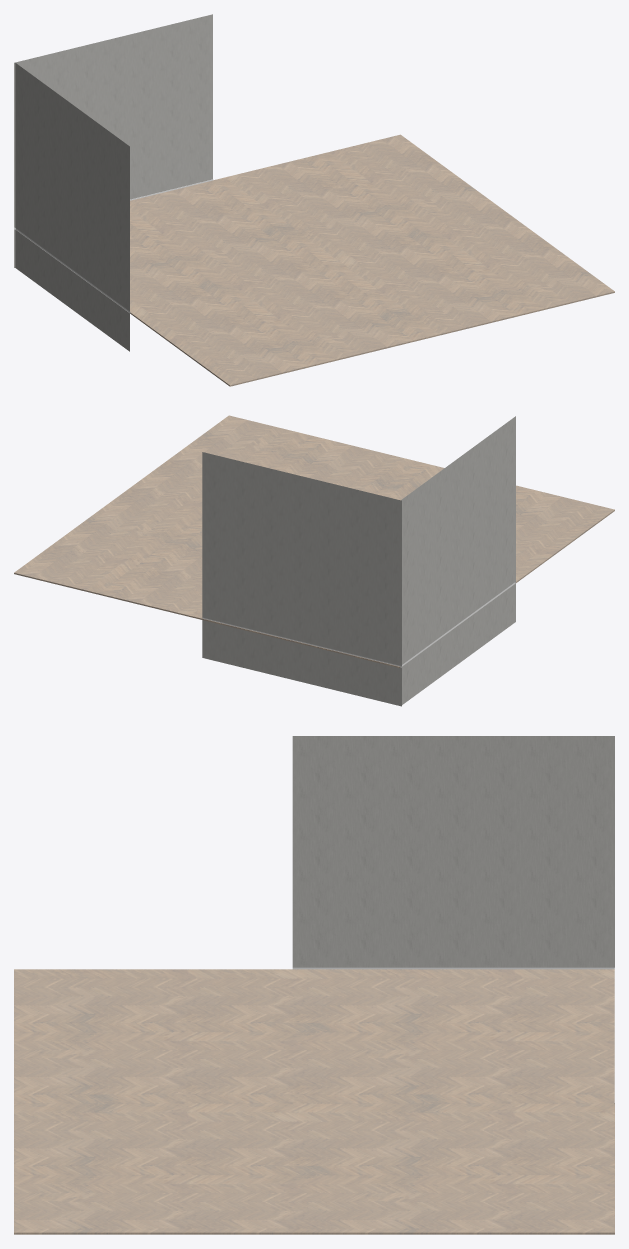
Rendered from spaceTwo.glb.
3 views of the same model, one above another, from view 1: azimuth 30°, elevation 25°; view 2: azimuth 150°, elevation 25°; view 3: azimuth 270°, elevation 25° (orthographic). The views are drawn at different scales.
Visible parts, largest first — view 1: Plane.040, Plane.059, Plane.058; view 2: Plane.058, Plane.040, Plane.059; view 3: Plane.040, Plane.059.
Boxes of the visible parts, box(x1,y1,x2,y2) form: Plane.040: box(130, 134, 614, 386); Plane.059: box(15, 63, 130, 351); Plane.058: box(14, 14, 213, 267); Plane.058: box(202, 452, 401, 706); Plane.040: box(14, 415, 614, 668); Plane.059: box(400, 416, 515, 704); Plane.040: box(14, 969, 614, 1234); Plane.059: box(292, 736, 614, 969).
Size of the model in its own units: 15.8 by 8.02 by 15.17.
Materials: 3 (2 with a texture image).
